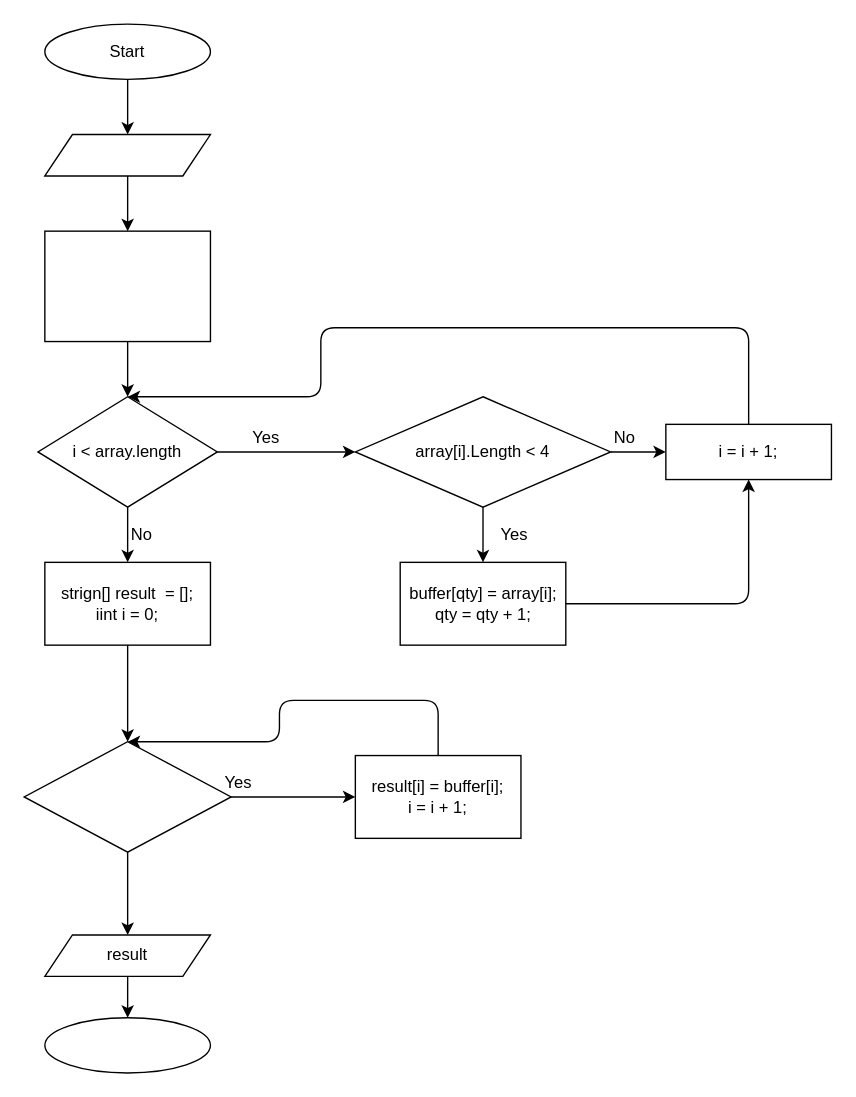
This 856x1097 diagram has some shape labels left out. Each missing label, with the centre of its shape:
"end" belongs at [126,1044].
"i < qty" belongs at [127,796].
"string[] array" belongs at [126,154].
"string[] buffer = []; int qty = 0; int i = 0;" belongs at [126,286].
